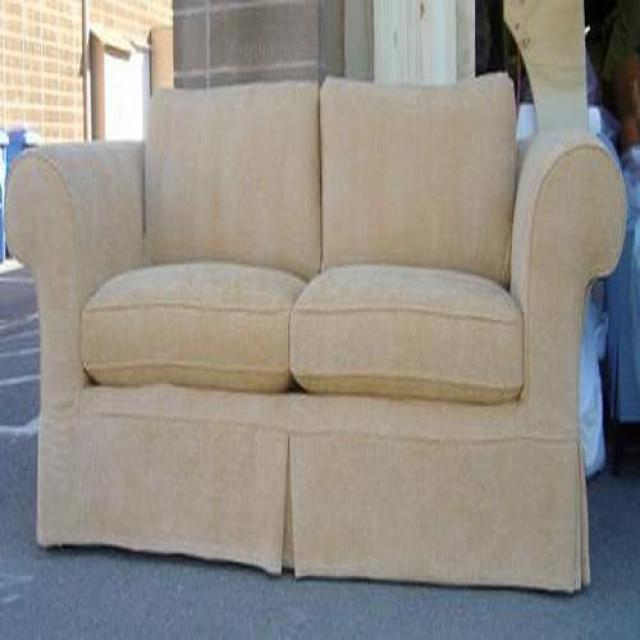sofa: (6, 0, 628, 596)
